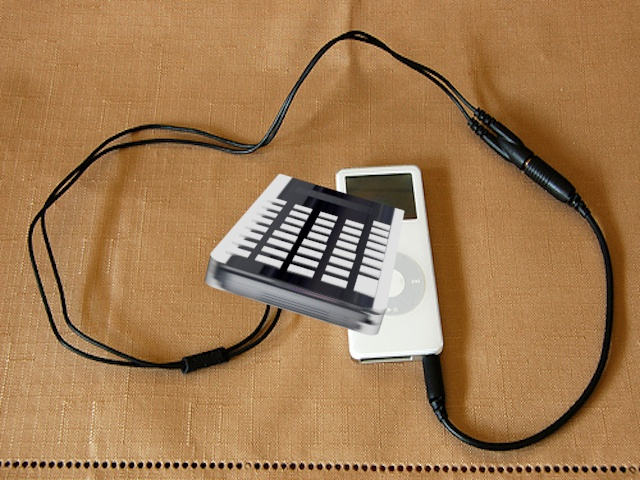calculator: (201, 169, 408, 336)
